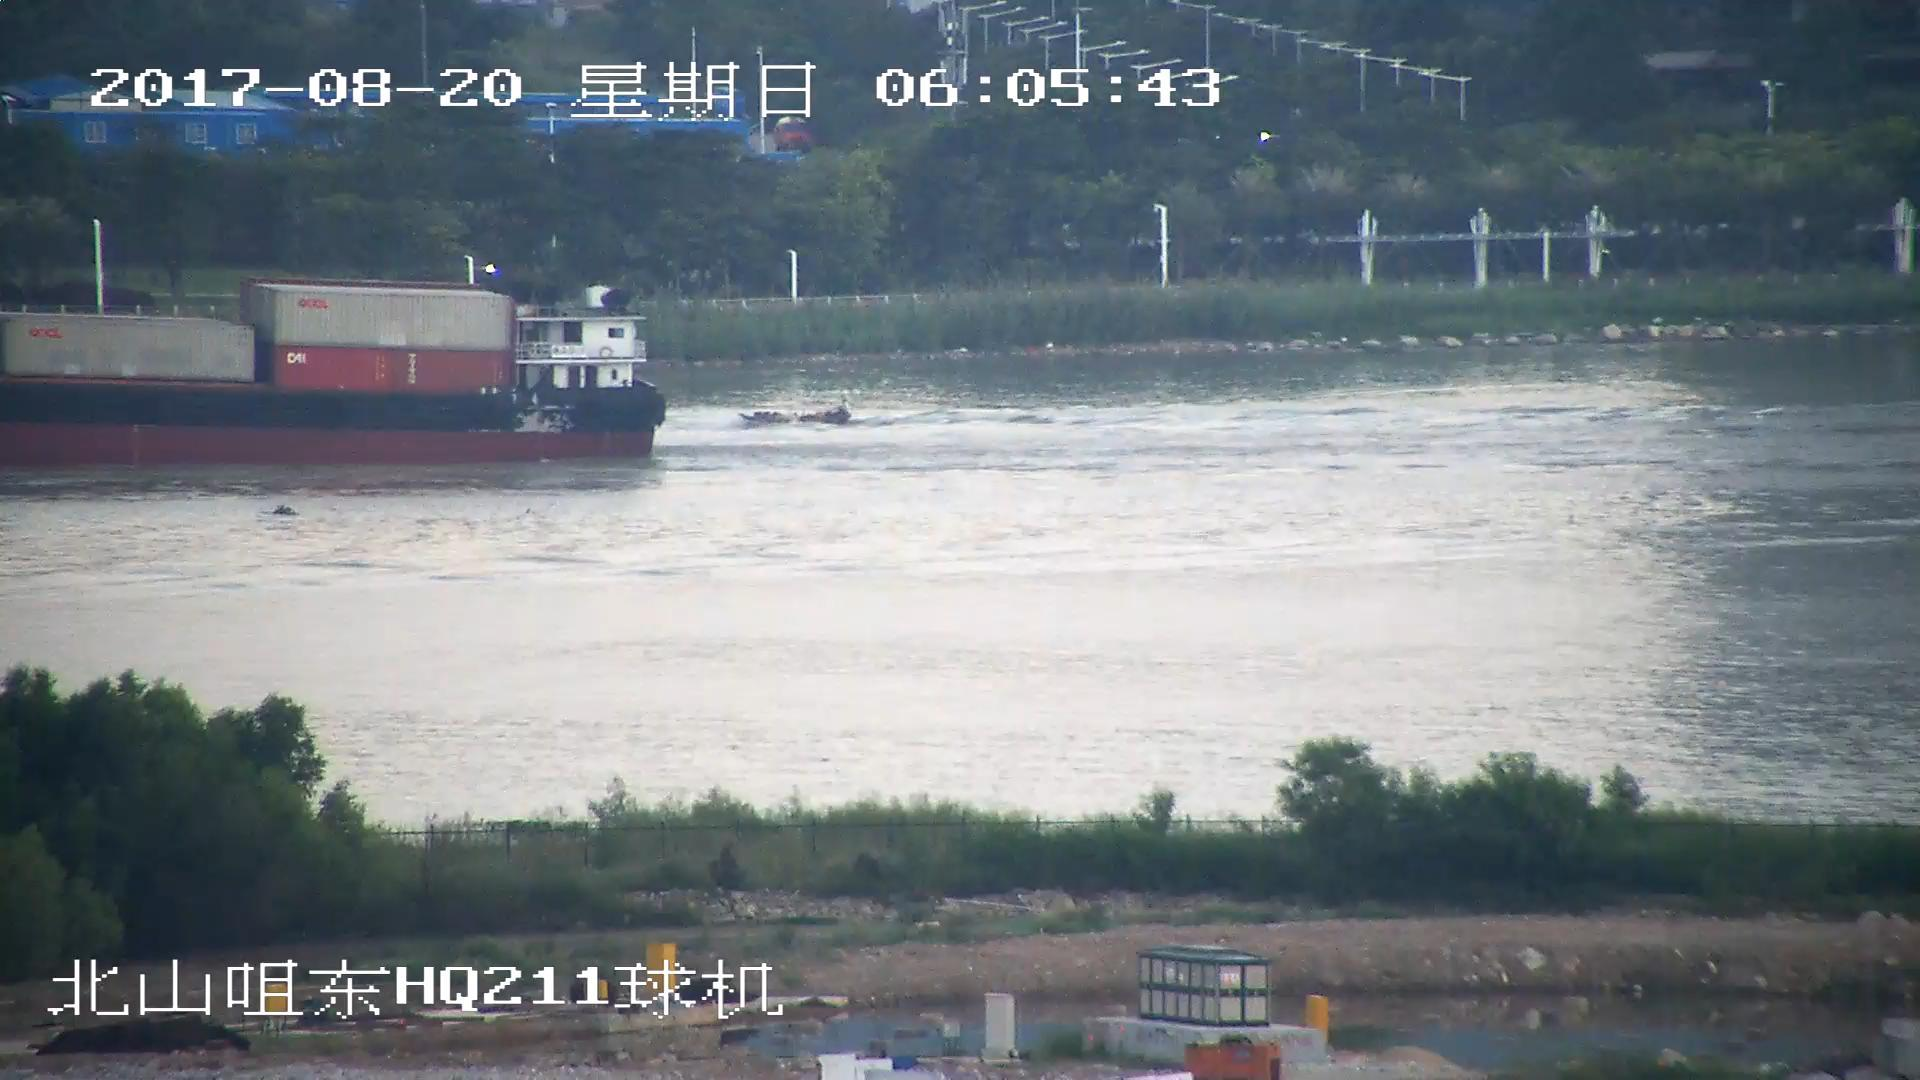Ship: (3, 284, 673, 472), (740, 398, 851, 430)
